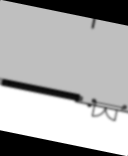double door: (91, 104, 119, 122)
wall: (0, 76, 82, 104)
